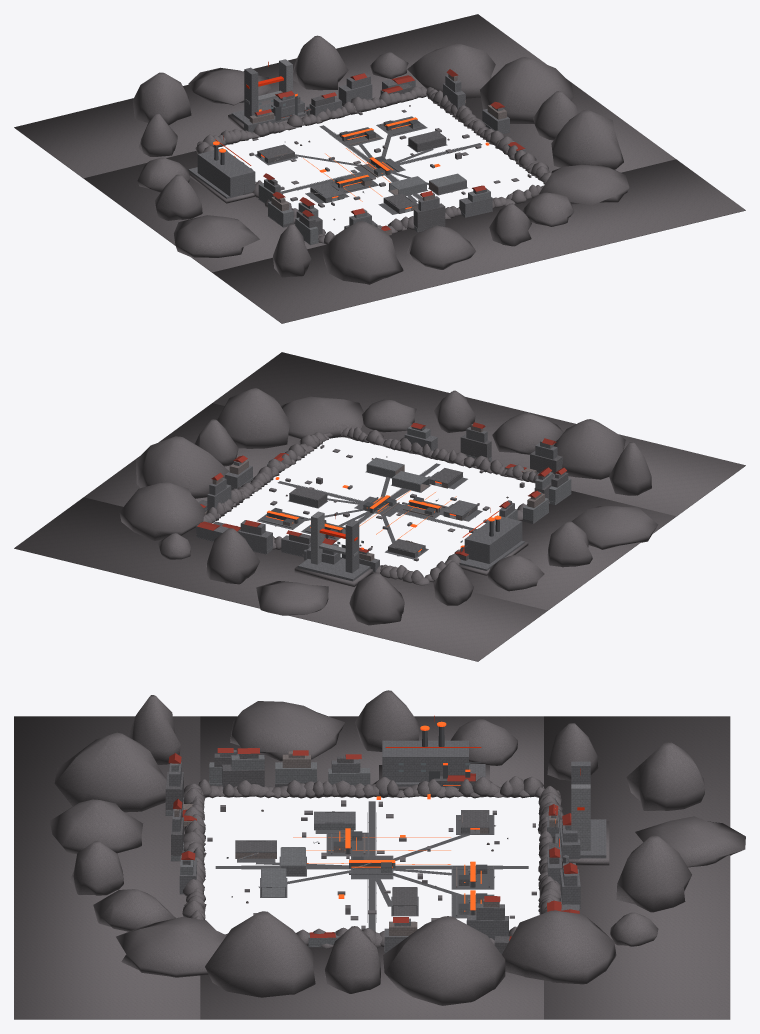
3 renders of one model, top to bottom at view 1: azimuth 30°, elevation 25°; view 2: azimuth 150°, elevation 25°; view 3: azimuth 270°, elevation 25°, orthographic. The views are drawn at different scales.
Parts seen in each view (by area): view 1: HB_z05_LOD1_terrain, HB_z05_LOD1_wall_alt, HB_z05_LOD1_wall_weathered, HB_z05_LOD1_road, HB_z05_LOD1_wall_cool, HB_z05_LOD1_LANDMARK_1_wall_alt, HB_z05_LOD1_roof, HB_z05_LOD1_wall_warm, HB_z05_LOD1_LANDMARK_0_wall_alt, HB_z05_LOD1_obstacle, HB_z05_LOD1_emissive, HB_z05_LOD1_trim (+1 smaller); view 2: HB_z05_LOD1_terrain, HB_z05_LOD1_wall_alt, HB_z05_LOD1_wall_weathered, HB_z05_LOD1_wall_cool, HB_z05_LOD1_road, HB_z05_LOD1_LANDMARK_1_wall_alt, HB_z05_LOD1_LANDMARK_0_wall_alt, HB_z05_LOD1_roof, HB_z05_LOD1_wall_warm, HB_z05_LOD1_LANDMARK_0_wall, HB_z05_LOD1_obstacle, HB_z05_LOD1_emissive (+1 smaller); view 3: HB_z05_LOD1_terrain, HB_z05_LOD1_wall_alt, HB_z05_LOD1_road, HB_z05_LOD1_wall_weathered, HB_z05_LOD1_wall_cool, HB_z05_LOD1_LANDMARK_1_wall_alt, HB_z05_LOD1_roof, HB_z05_LOD1_wall_warm, HB_z05_LOD1_LANDMARK_0_wall_alt, HB_z05_LOD1_emissive, HB_z05_LOD1_LANDMARK_0_wall, HB_z05_LOD1_obstacle (+1 smaller).
Part boxes in pixels (x1,y1,x2,y2): HB_z05_LOD1_terrain: (14, 14, 745, 323); HB_z05_LOD1_wall_alt: (244, 73, 510, 244); HB_z05_LOD1_wall_weathered: (243, 83, 486, 234); HB_z05_LOD1_road: (255, 117, 482, 214); HB_z05_LOD1_wall_cool: (255, 106, 525, 244); HB_z05_LOD1_LANDMARK_1_wall_alt: (188, 148, 255, 198); HB_z05_LOD1_roof: (254, 69, 525, 230); HB_z05_LOD1_wall_warm: (249, 74, 506, 235); HB_z05_LOD1_LANDMARK_0_wall_alt: (231, 67, 305, 123); HB_z05_LOD1_obstacle: (249, 109, 531, 207); HB_z05_LOD1_emissive: (261, 117, 489, 209); HB_z05_LOD1_trim: (281, 108, 445, 213); HB_z05_LOD1_terrain: (14, 352, 745, 661); HB_z05_LOD1_wall_alt: (196, 427, 570, 571); HB_z05_LOD1_wall_weathered: (198, 426, 568, 560); HB_z05_LOD1_wall_cool: (233, 426, 571, 571); HB_z05_LOD1_road: (258, 463, 481, 559); HB_z05_LOD1_LANDMARK_1_wall_alt: (459, 515, 524, 570); HB_z05_LOD1_LANDMARK_0_wall_alt: (298, 520, 370, 581); HB_z05_LOD1_roof: (197, 422, 566, 556); HB_z05_LOD1_wall_warm: (196, 424, 544, 561); HB_z05_LOD1_LANDMARK_0_wall: (311, 511, 358, 564); HB_z05_LOD1_obstacle: (269, 445, 524, 566); HB_z05_LOD1_emissive: (266, 477, 464, 551); HB_z05_LOD1_terrain: (14, 690, 745, 1019); HB_z05_LOD1_wall_alt: (165, 750, 580, 953); HB_z05_LOD1_road: (215, 801, 528, 931); HB_z05_LOD1_wall_weathered: (165, 753, 560, 953); HB_z05_LOD1_wall_cool: (166, 755, 556, 946); HB_z05_LOD1_LANDMARK_1_wall_alt: (382, 740, 485, 786); HB_z05_LOD1_roof: (168, 748, 579, 940); HB_z05_LOD1_wall_warm: (174, 751, 558, 935); HB_z05_LOD1_LANDMARK_0_wall_alt: (555, 761, 606, 858); HB_z05_LOD1_emissive: (293, 785, 481, 911); HB_z05_LOD1_LANDMARK_0_wall: (571, 784, 590, 850); HB_z05_LOD1_obstacle: (207, 800, 557, 930).
Bounding box in the file's own units: 661 × 80.19 × 668.
Materials: 14 (12 with a texture image).
